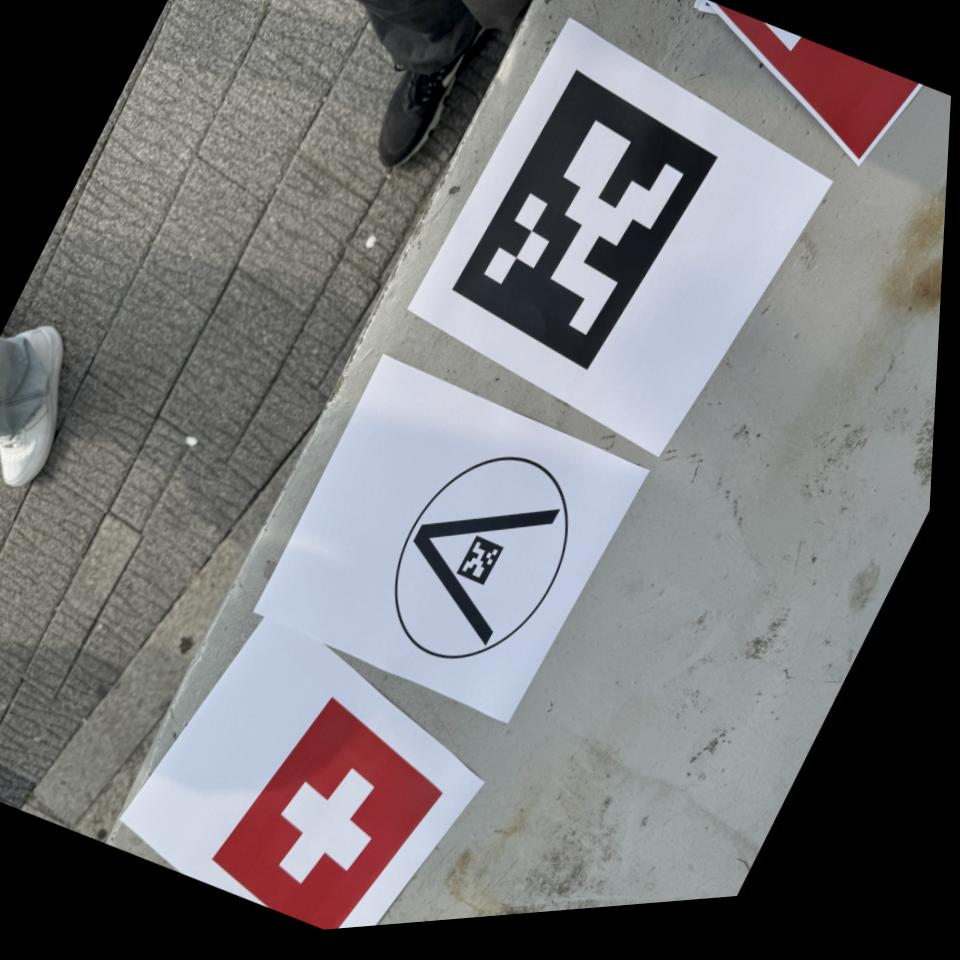ArUro mark: (454, 71, 714, 367)
rescue point: (213, 697, 441, 930)
vertiport: (351, 412, 610, 704)
